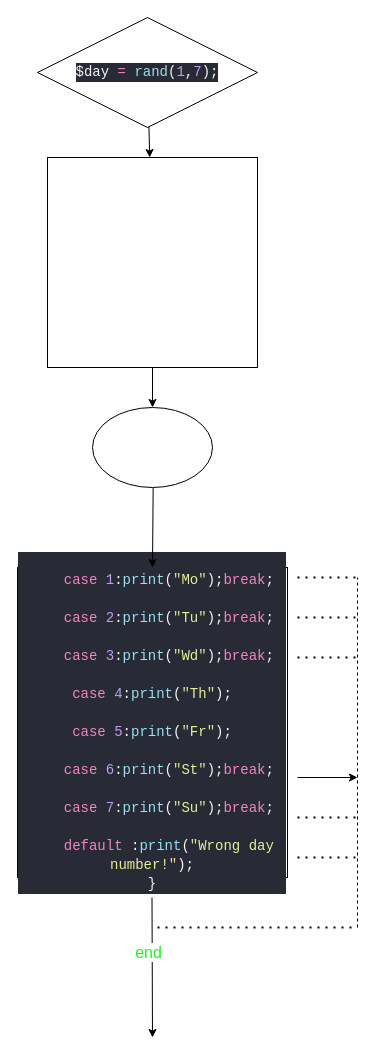
Some shapes in this 383 by 1063 pixel diagram are drawn without their labels. Each missing label, with the centre of its shape:
rand ( int $min, int $max): int: point 152,262
switch ($day): point 152,447
